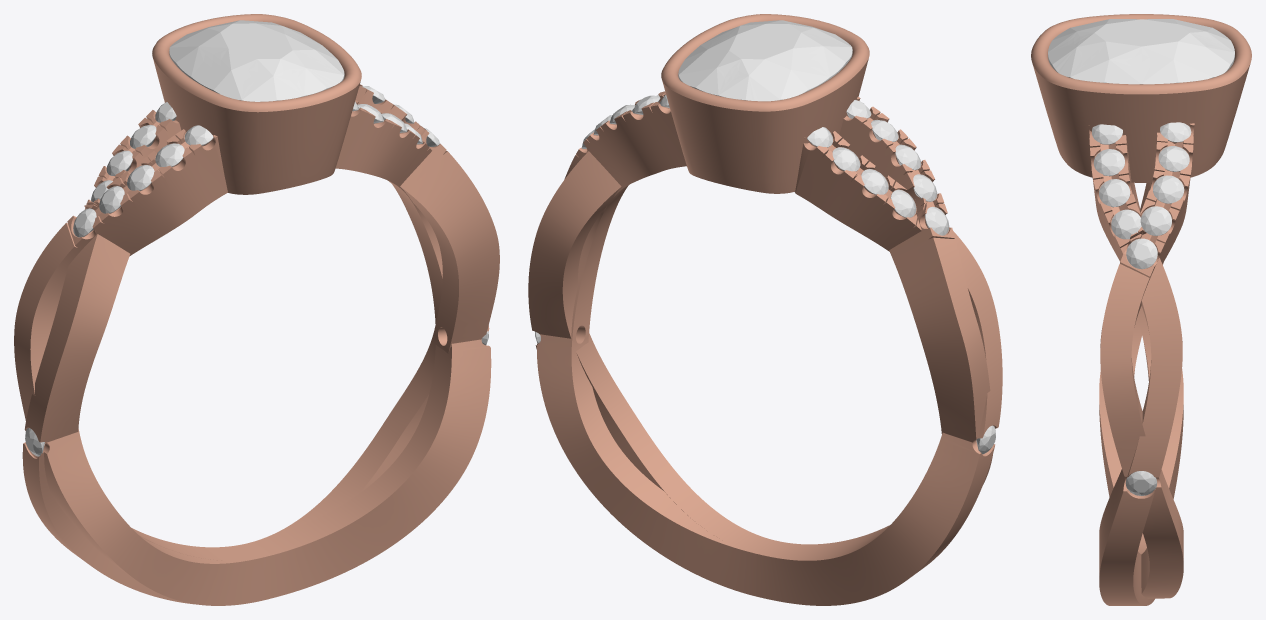
File: diamond-cushion-rosegold-bezelset-twist-sidestones.glb
3 renders of one model, left to right at view 1: azimuth 30°, elevation 25°; view 2: azimuth 150°, elevation 25°; view 3: azimuth 270°, elevation 25°, orthographic.
Visible parts, largest first — view 1: metal, stone; view 2: metal, stone; view 3: metal, stone, side.015, side.016, side.012, side.017, side.011, side.013, side.018, side.010, side.014, side.019.
Part boxes in pixels (box(x1,y1,x2,y2)): metal: box(14, 14, 499, 605); stone: box(169, 20, 344, 101); metal: box(528, 14, 1002, 605); stone: box(678, 20, 852, 101); metal: box(1031, 14, 1251, 605); stone: box(1048, 19, 1234, 84); side.015: box(1126, 238, 1157, 269); side.016: box(1140, 206, 1171, 235); side.012: box(1099, 179, 1130, 207); side.017: box(1153, 175, 1184, 203); side.011: box(1111, 209, 1141, 239); side.013: box(1093, 149, 1124, 176); side.018: box(1158, 146, 1189, 171); side.010: box(1125, 471, 1157, 495); side.014: box(1092, 124, 1122, 144); side.019: box(1160, 122, 1191, 142).
Bounding box in the file's own units: 19.97 × 23.03 × 8.45.
